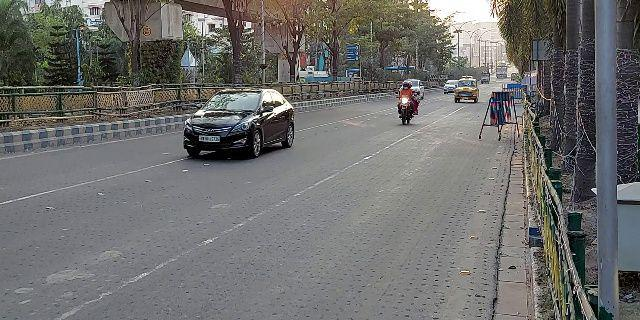Car: (178, 82, 297, 163), (452, 76, 480, 107)
Motorbike: (393, 78, 420, 126)
